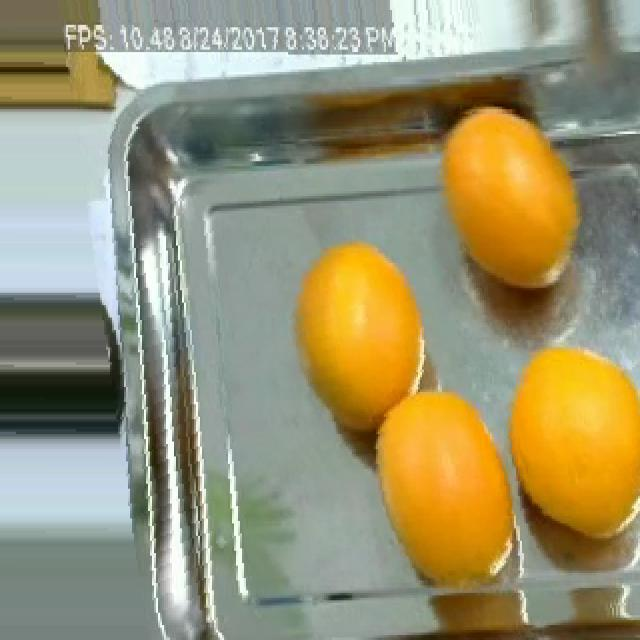Fruit: (282, 228, 438, 419)
